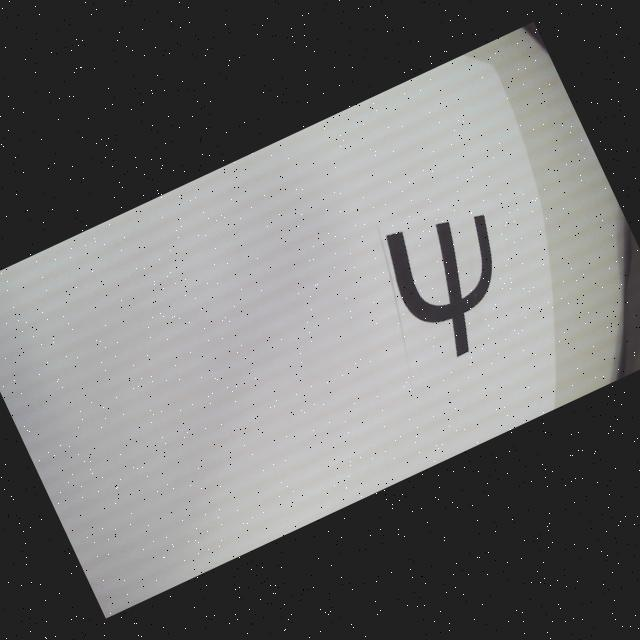PSI: (376, 194, 534, 368)
